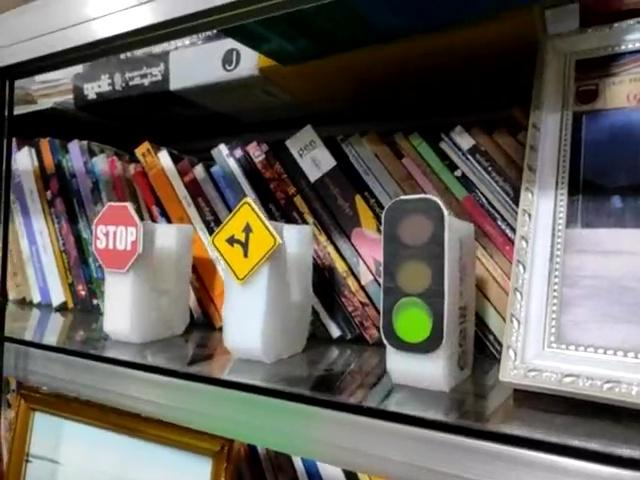Green Traffic Light: (379, 196, 445, 357)
Stop Sign: (91, 202, 144, 274)
Straight Or Left Sign: (211, 196, 281, 283)
